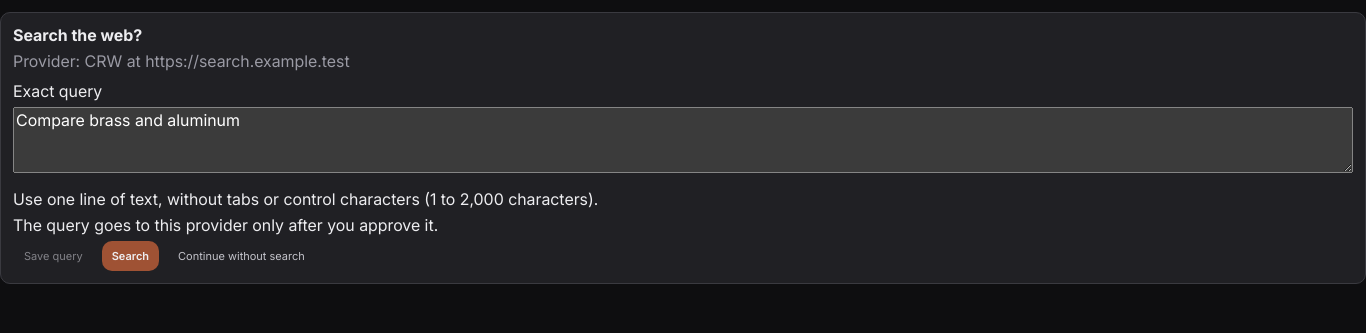
Scenario: refreshes a stale command and keeps its fixed error visible
Click the button "Search".
click(130, 256)  # box [102,241,159,271]
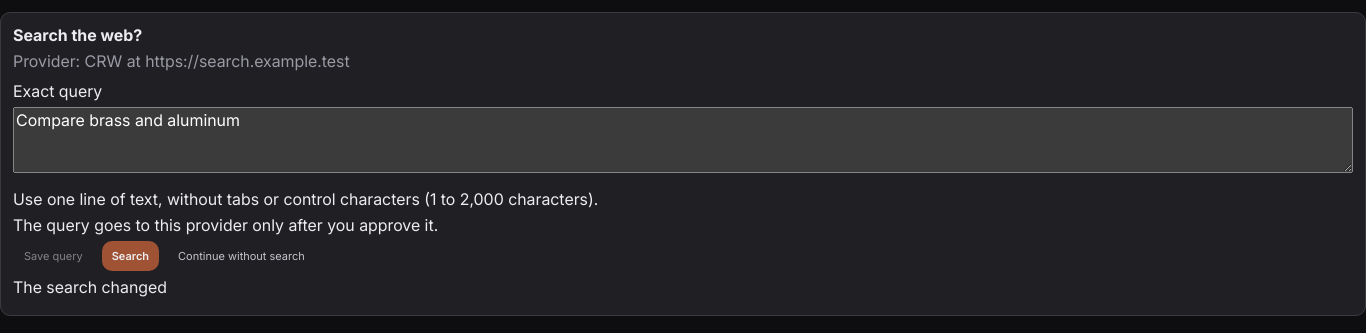
Now the message "The search changed" is shown, box [13,277,167,297]
